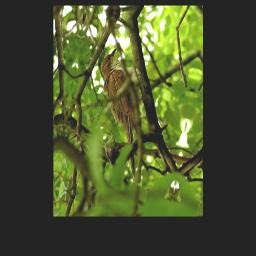Cuckoo: (81, 44, 159, 182)
